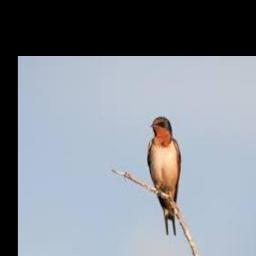Swallow: (148, 116, 181, 235)
